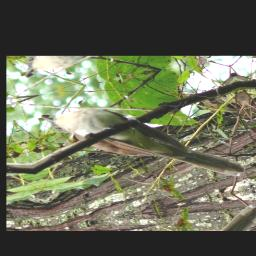Cuckoo: (40, 80, 248, 211)
